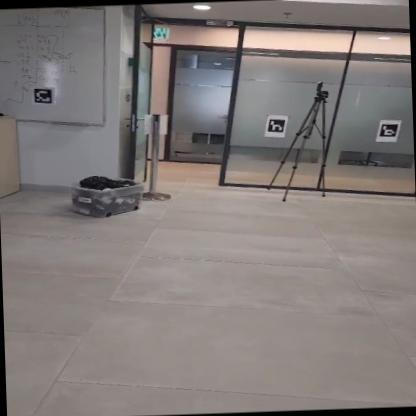open: (129, 44, 239, 184)
